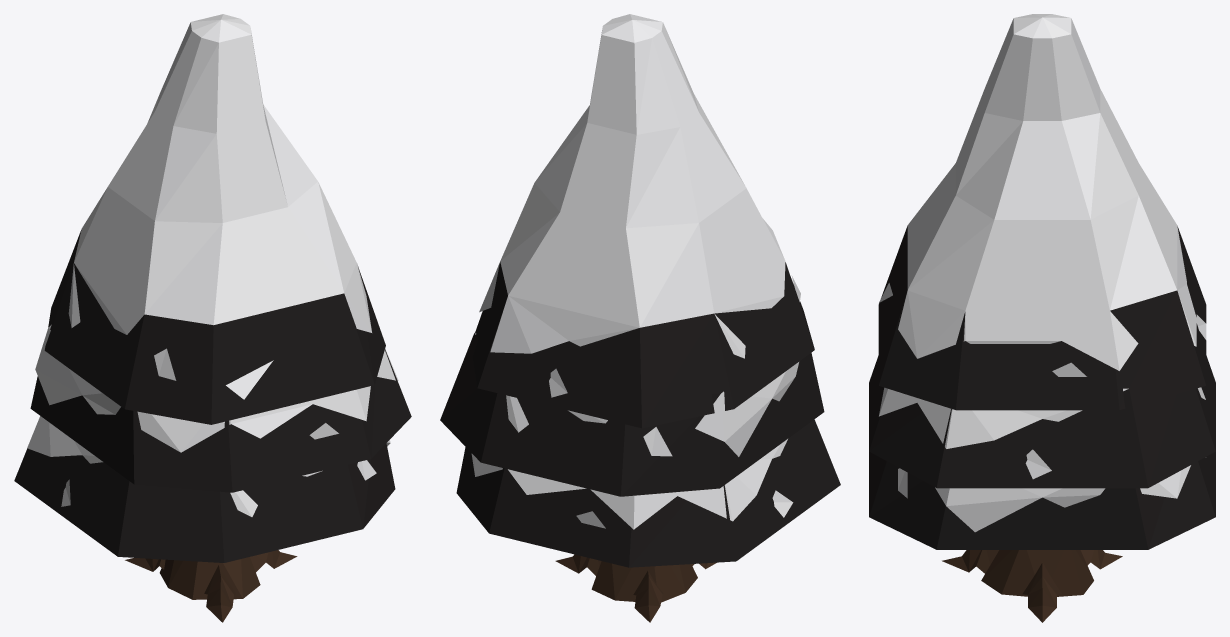
File: obj_tree_12_0.obj
3 renders of one model, left to right at view 1: azimuth 30°, elevation 25°; view 2: azimuth 150°, elevation 25°; view 3: azimuth 270°, elevation 25°, orthographic. The views are drawn at different scales.
Bounding box in the file's own units: 2.25 × 4.06 × 2.25.
